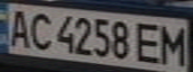2: (72, 14, 93, 56)
4: (51, 11, 75, 54)
5: (90, 16, 115, 58)
8: (109, 17, 136, 61)
A: (3, 6, 33, 48)
C: (24, 9, 54, 51)
E: (133, 19, 166, 64)
M: (157, 21, 190, 65)
